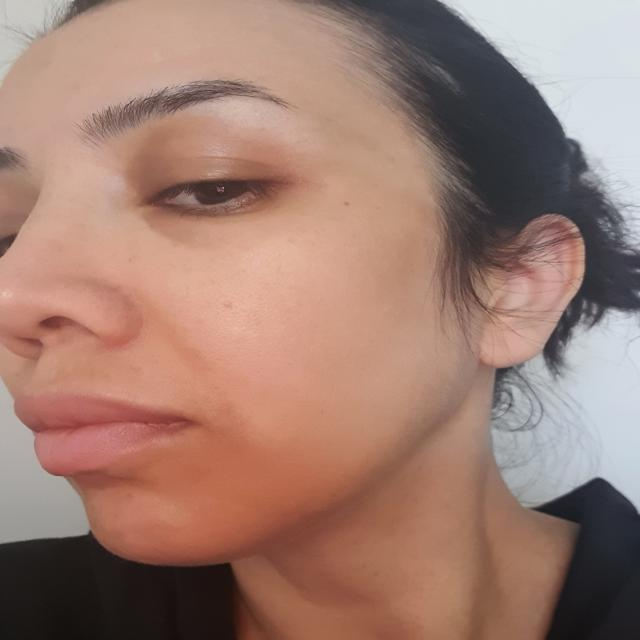Acne: (209, 296, 236, 319), (121, 490, 139, 506)
